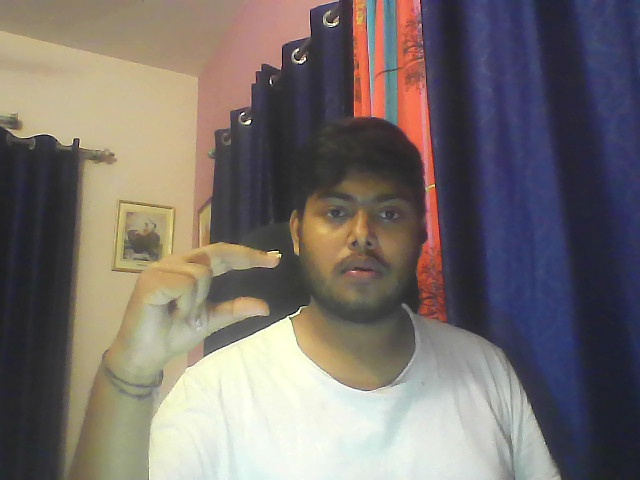No: (119, 236, 289, 390)
